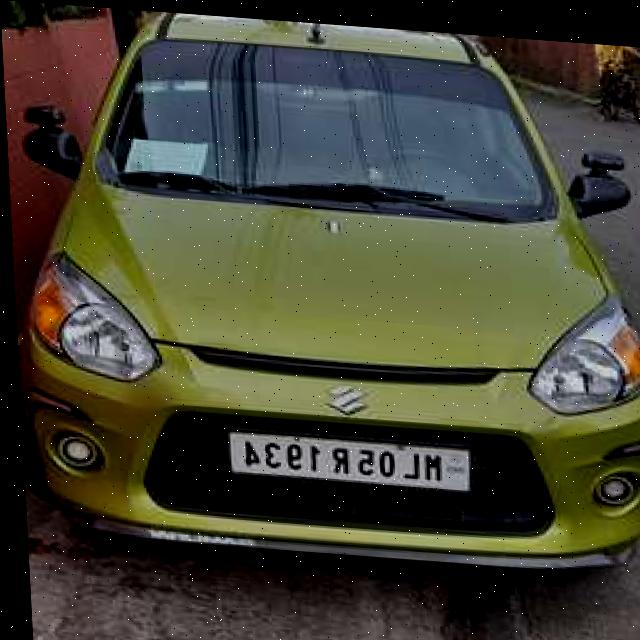plate: (218, 426, 470, 488)
